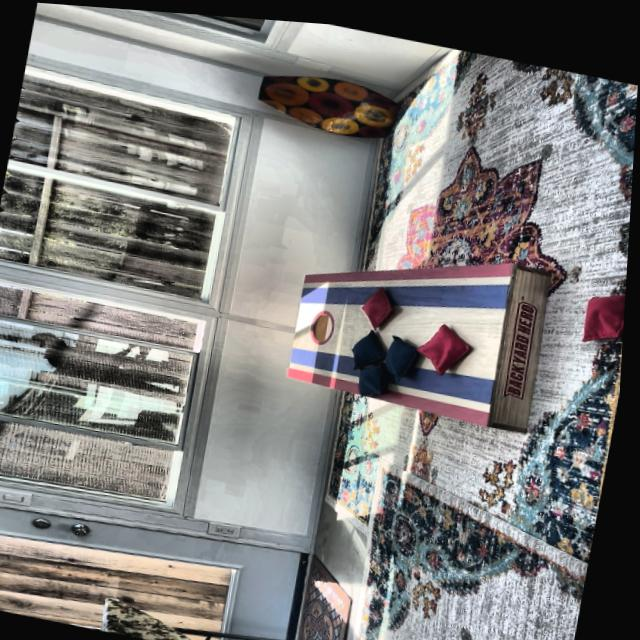blue-bean-bag: (351, 318, 392, 367), (385, 326, 425, 376), (359, 352, 393, 393)
board: (288, 251, 513, 412)
hole: (311, 300, 340, 341)
red-bean-bag: (418, 311, 480, 370), (581, 270, 629, 337), (361, 274, 402, 325)
